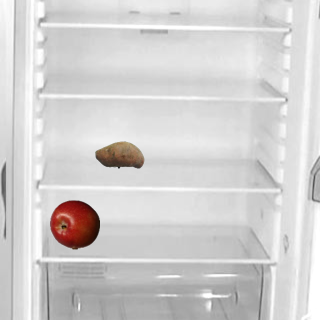Apple Braeburn: (49, 199, 99, 249)
Potato Sweet: (94, 129, 144, 179)
